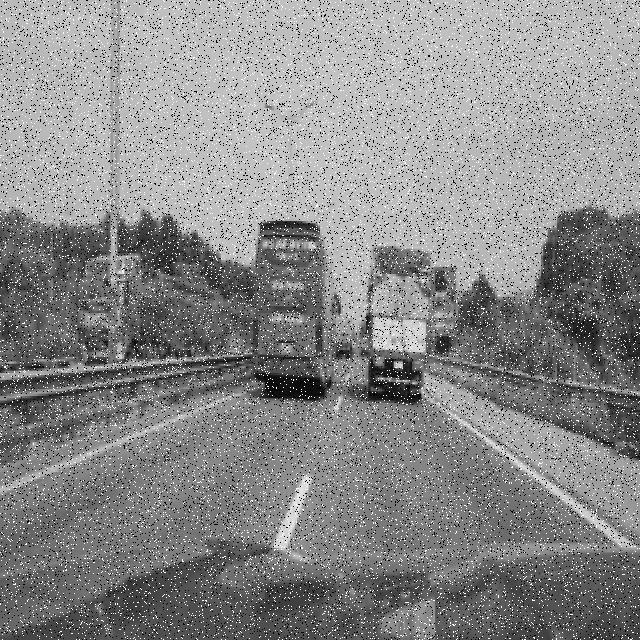clear-road: (0, 359, 608, 575)
